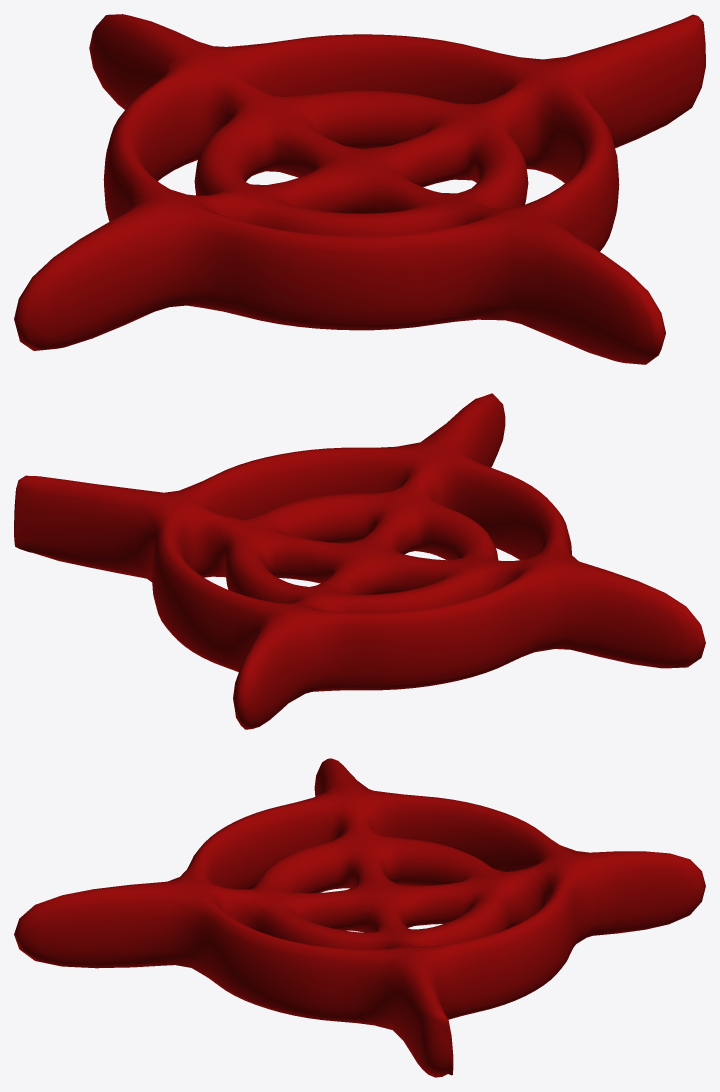
Rendered from target 1.fbx.
3 renders of one model, top to bottom at view 1: azimuth 30°, elevation 25°; view 2: azimuth 150°, elevation 25°; view 3: azimuth 270°, elevation 25°, orthographic. The views are drawn at different scales.
Visible parts, largest first — view 1: pCylinder2; view 2: pCylinder2; view 3: pCylinder2.
Boxes of the visible parts, left/top/right/bottom form: pCylinder2: left=14, top=14, right=705, bottom=364; pCylinder2: left=14, top=393, right=705, bottom=729; pCylinder2: left=14, top=758, right=705, bottom=1077.
Size of the model in its own units: 3.36 by 0.4744 by 3.39.
